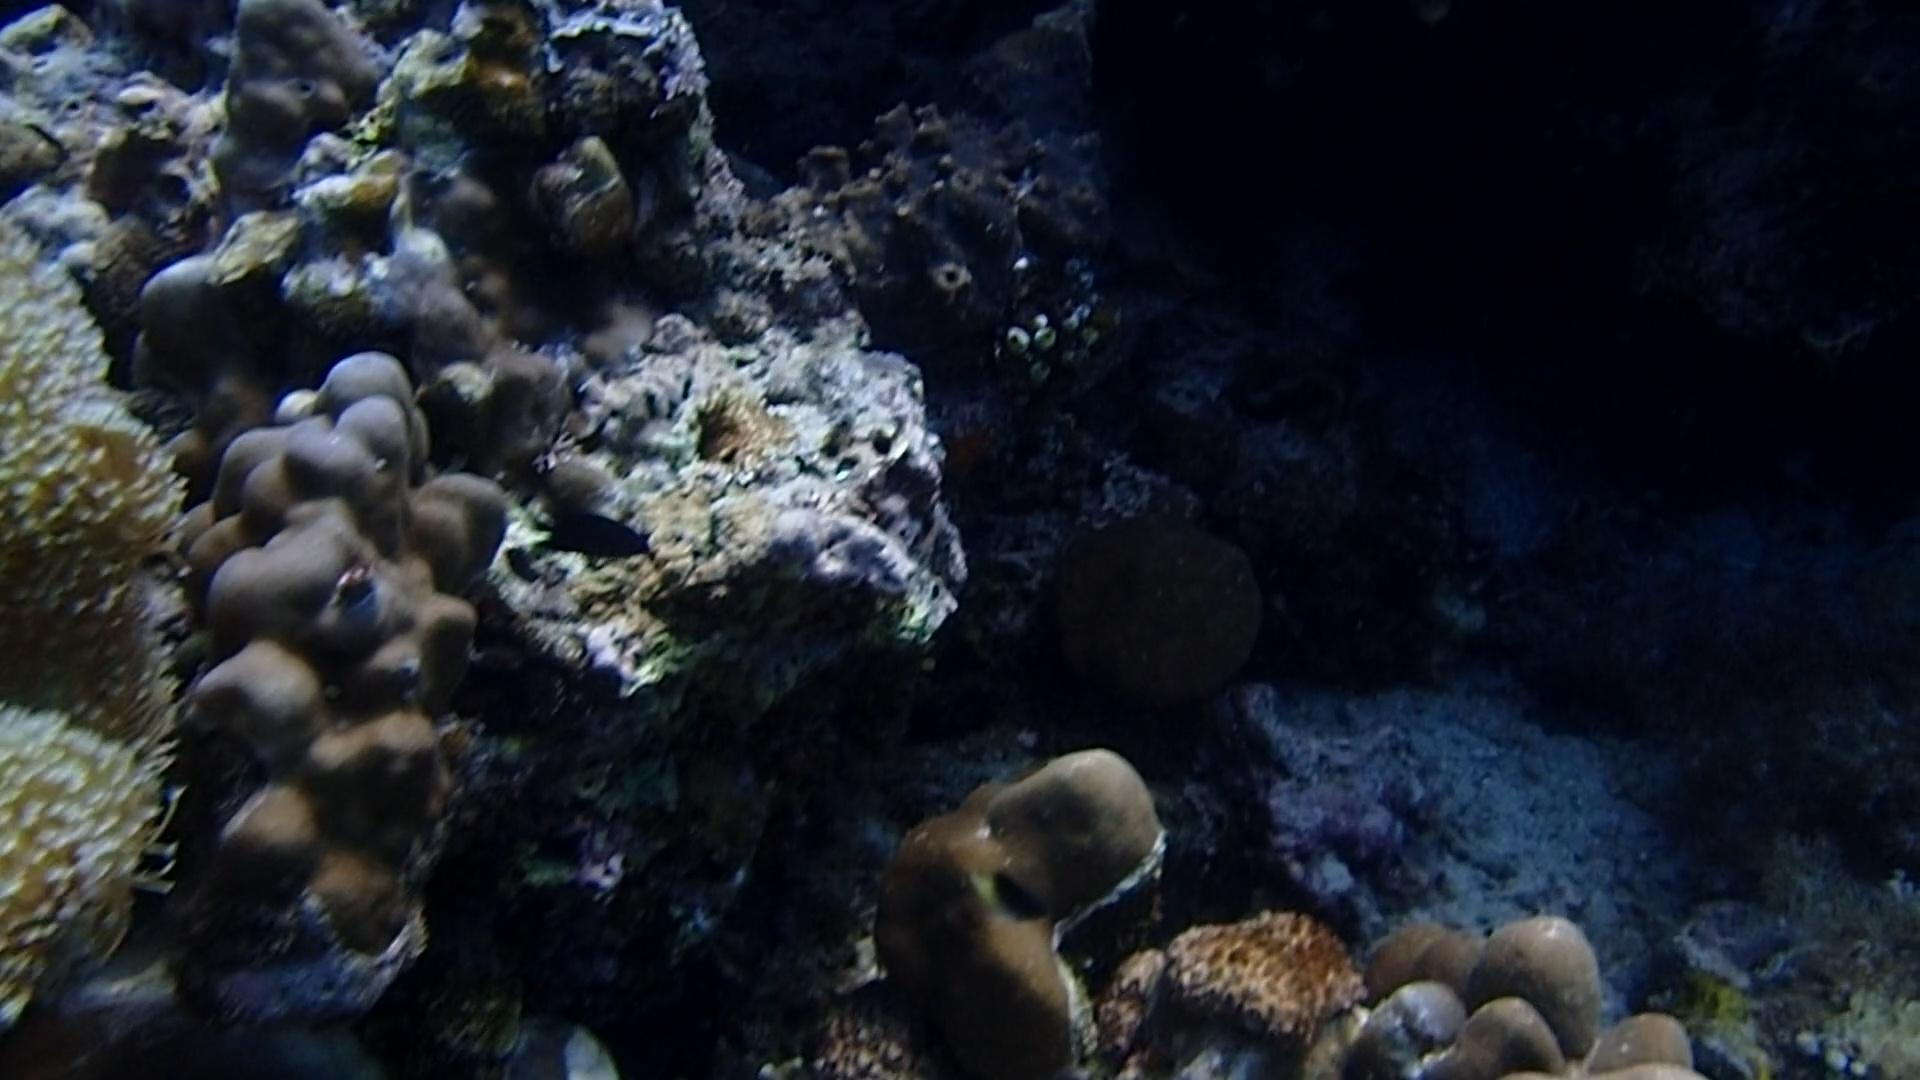Dark Fish: (524, 495, 653, 570)
Yellow Tail: (959, 860, 1042, 923)
